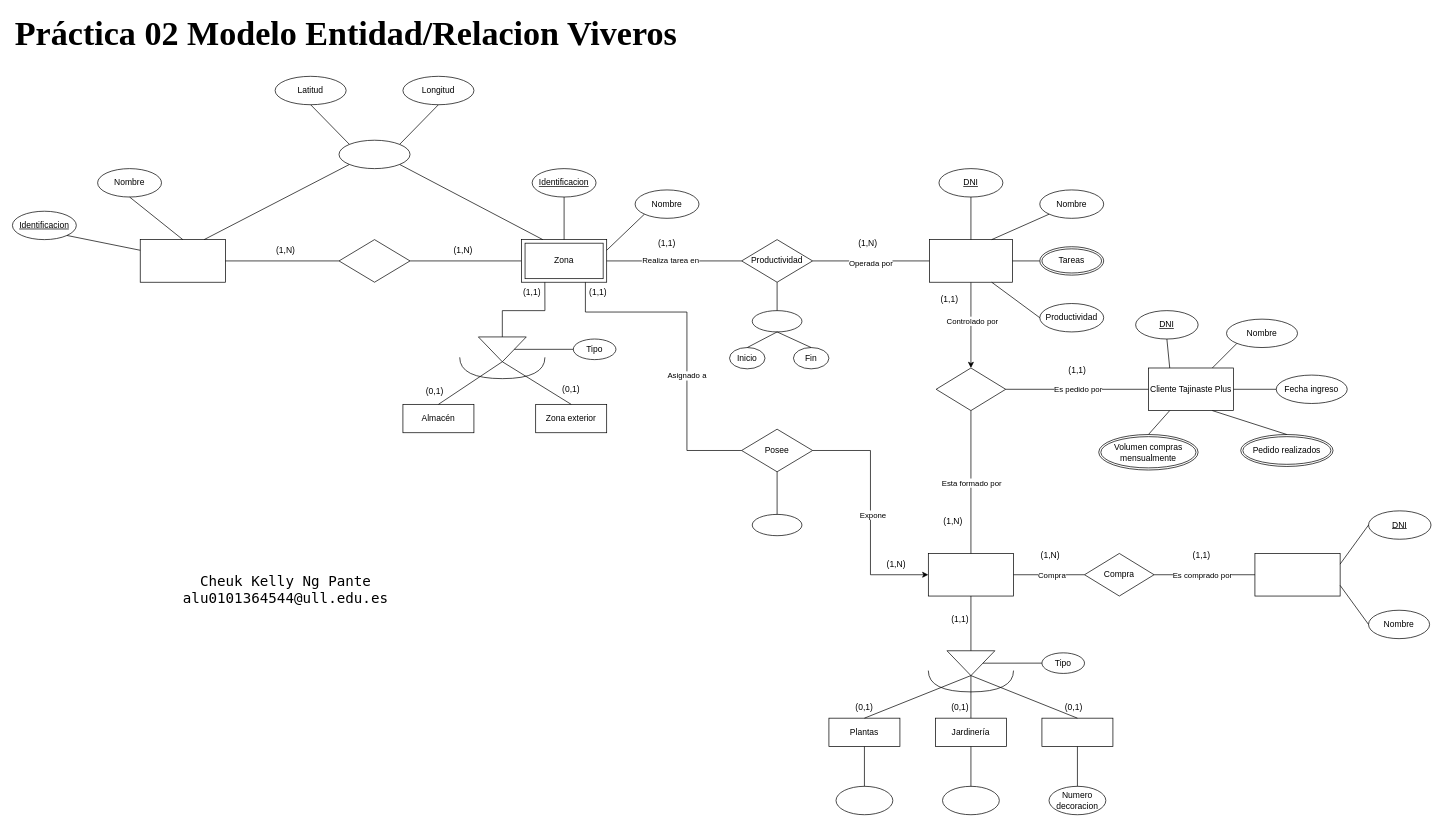
The diagram is 1443 pixels wide and 827 high, and some of its shapes have lost their labels. Here are the shapes that lost their labels. From the top down, the centre of each, then its label:
[374,154]: Coordenadas
[182,260]: Vivero
[374,260]: Asigna
[970,260]: Empleado
[777,321]: Época
[970,389]: Pedido
[777,525]: Stock
[971,574]: Producto
[1297,574]: Cliente
[1077,732]: Decoración
[864,800]: Numero plantas
[970,800]: Numero macetas
